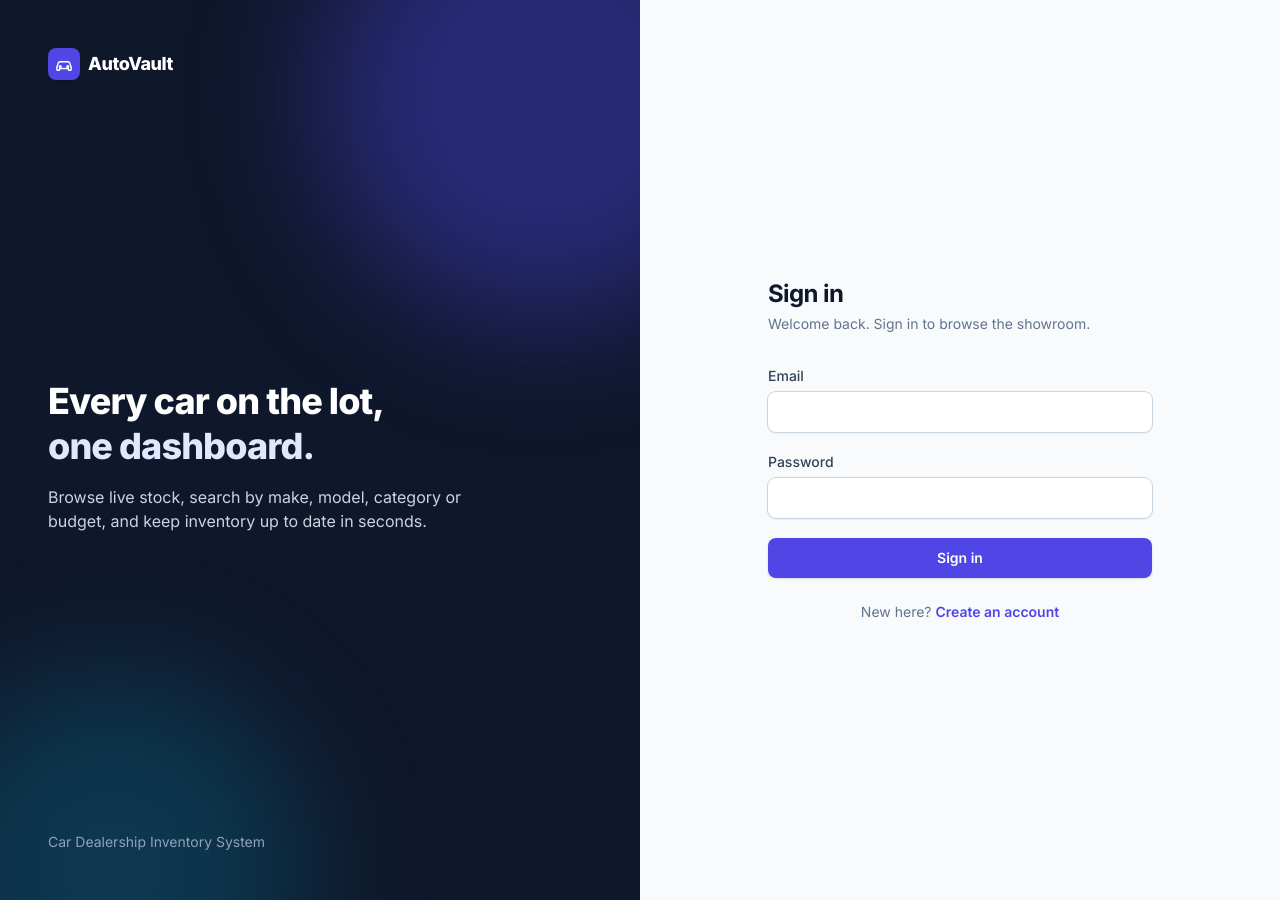
authentication flow › logs in and lands on the dashboard
Type "asha@example.com" into the field labelled "Email".
click(960, 412); type("asha@example.com")  # box [768,392,1152,432]
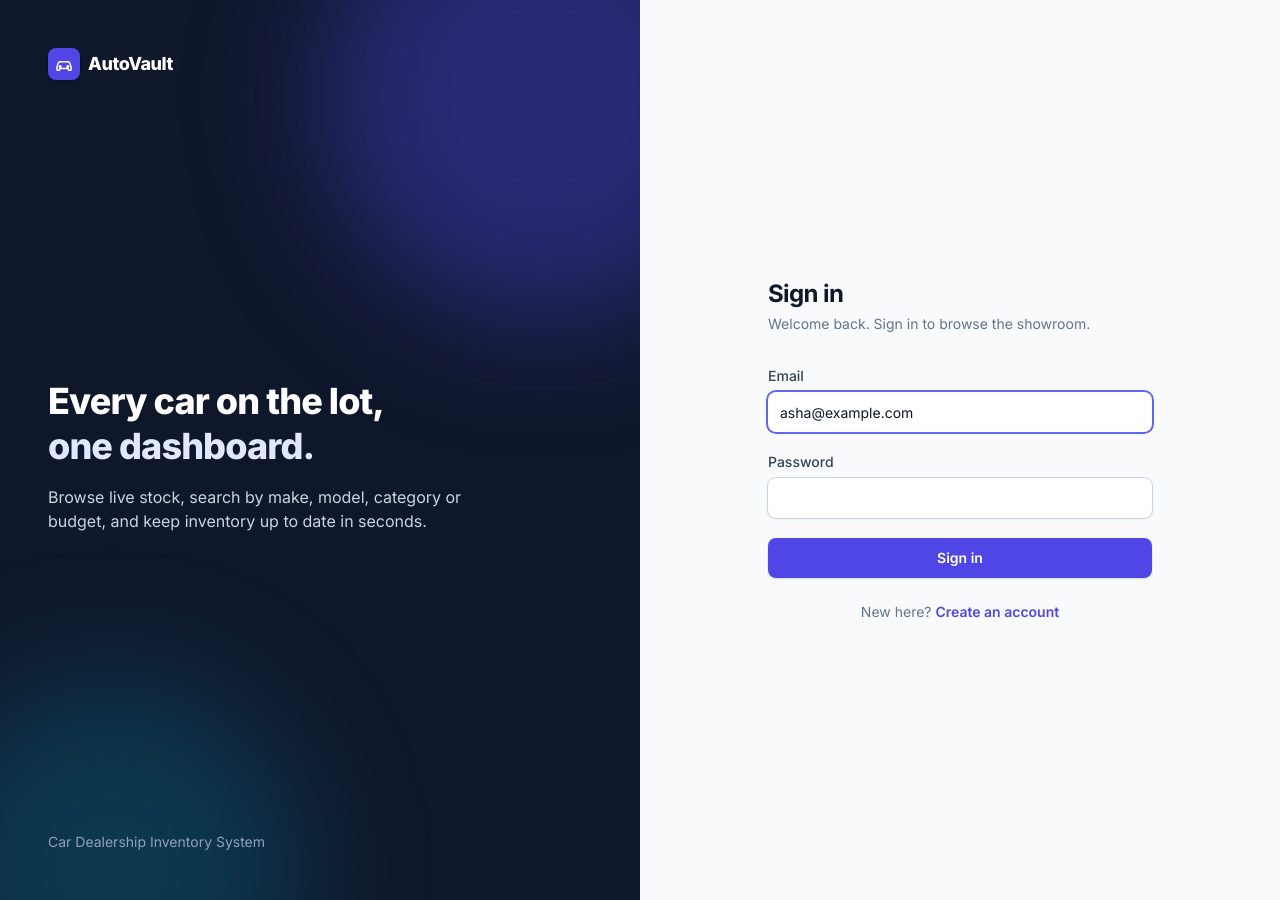
Type "password123" into the password field labelled "Password".
click(960, 498); type("password123")  # box [768,478,1152,518]
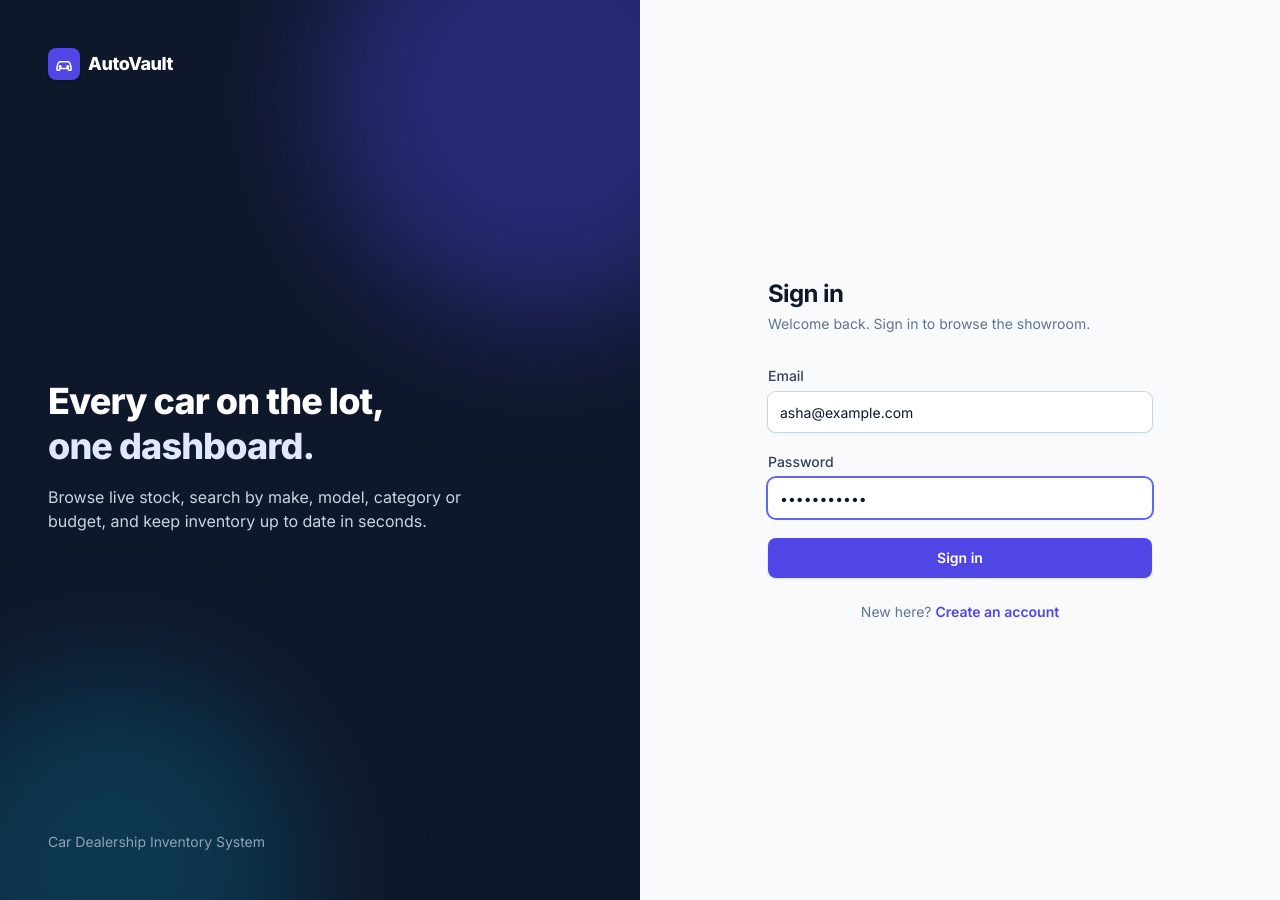
Click the button "Sign in".
click(960, 558)  # box [768,538,1152,578]
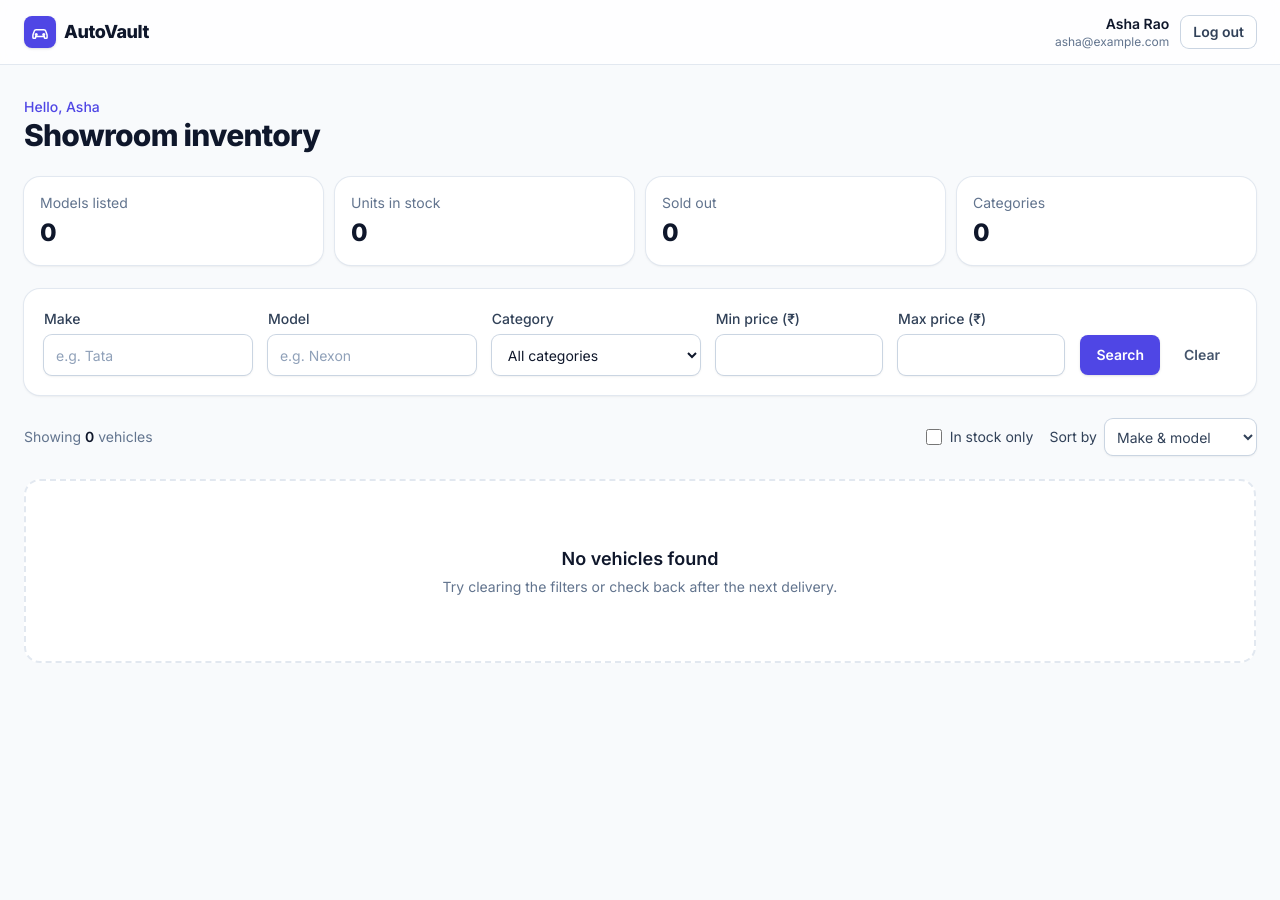
expect the heading "Showroom inventory" is shown: met, box [24,117,320,153]
expect the text "Asha Rao" is shown: met, box [1106,15,1169,32]
